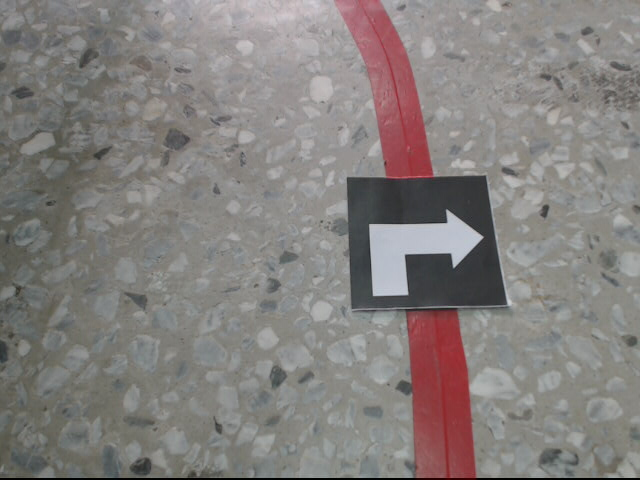right: (344, 175, 510, 313)
